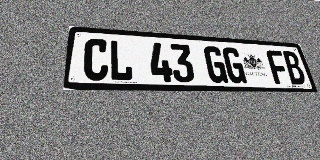3: (170, 44, 195, 82)
4: (149, 42, 173, 82)
B: (281, 51, 307, 85)
C: (83, 38, 109, 81)
F: (265, 50, 291, 84)
G: (203, 46, 228, 83), (222, 47, 247, 83)
L: (109, 40, 133, 81)
